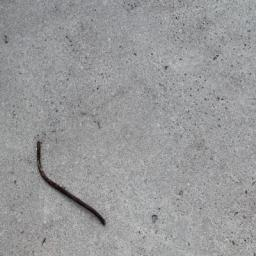FOD: (36, 141, 109, 229)
